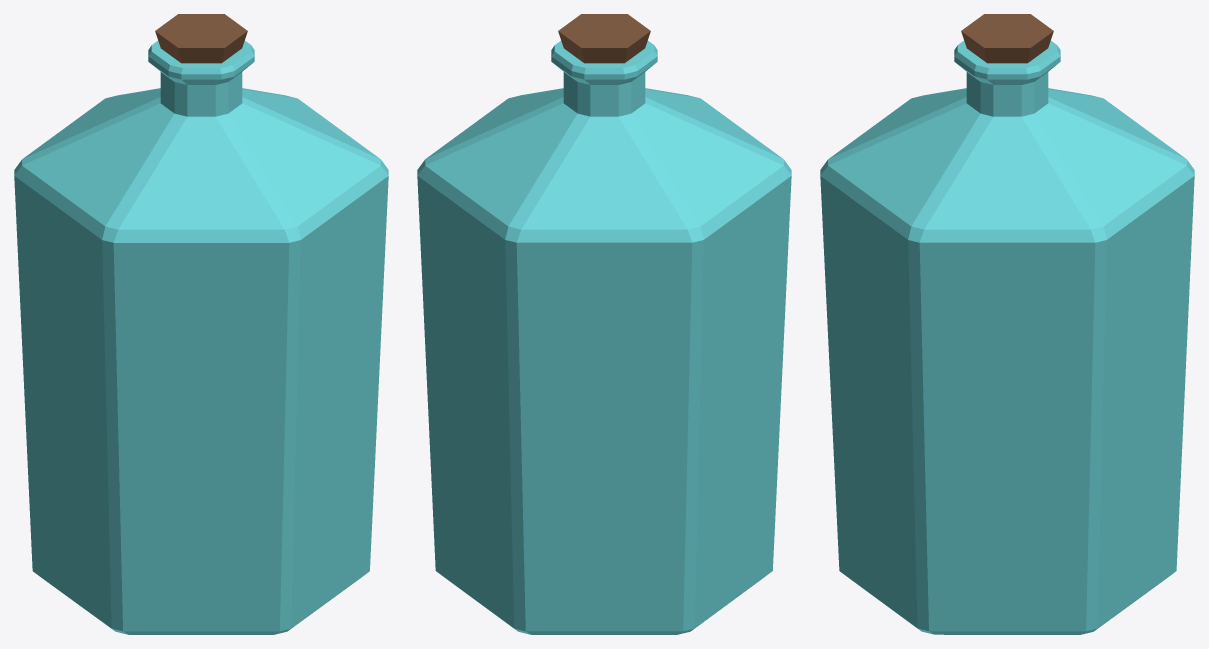
File: Potion_02_Blue.fbx
3 renders of one model, left to right at view 1: azimuth 30°, elevation 25°; view 2: azimuth 150°, elevation 25°; view 3: azimuth 270°, elevation 25°, orthographic.
Parts seen in each view (by area): view 1: Cone.017, Cylinder.051, Cylinder.050; view 2: Cone.017, Cylinder.051, Cylinder.050; view 3: Cone.017, Cylinder.051, Cylinder.050.
Boxes of the visible parts, left/top/right/bottom form: Cone.017: left=14, top=88, right=388, bottom=634; Cylinder.051: left=148, top=40, right=254, bottom=116; Cylinder.050: left=155, top=14, right=247, bottom=63; Cone.017: left=417, top=88, right=791, bottom=634; Cylinder.051: left=551, top=40, right=657, bottom=116; Cylinder.050: left=558, top=14, right=650, bottom=63; Cone.017: left=820, top=88, right=1194, bottom=634; Cylinder.051: left=954, top=40, right=1060, bottom=116; Cylinder.050: left=961, top=14, right=1053, bottom=63.
Size of the model in its own units: 14.97 by 27.16 by 16.94.
